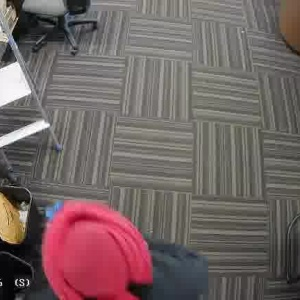person: (29, 198, 207, 300)
